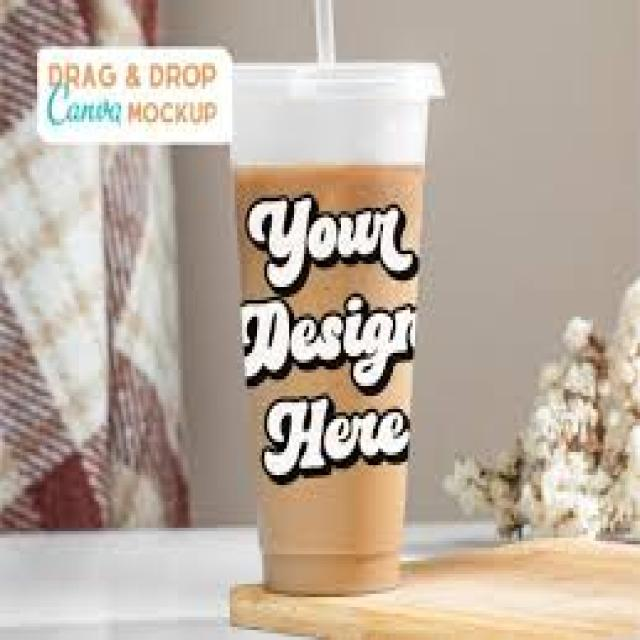bottle: (237, 63, 443, 594)
